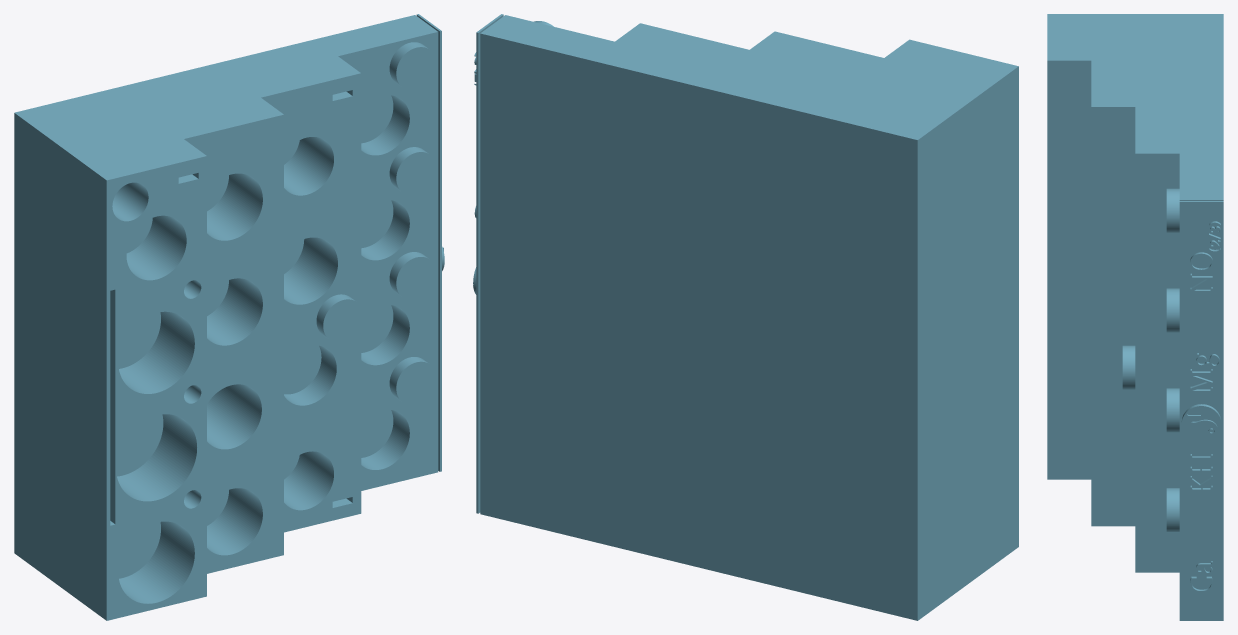
The model's file is redsea-tests-organizer.glb.
The picture shows the model from 3 angles, left to right: view 1: azimuth 30°, elevation 25°; view 2: azimuth 150°, elevation 25°; view 3: azimuth 270°, elevation 25°; orthographic projection. The views are drawn at different scales.
Parts seen in each view (by area): view 1: 83d2dbae-redsea_tests_full.stl; view 2: 83d2dbae-redsea_tests_full.stl; view 3: 83d2dbae-redsea_tests_full.stl.
Part boxes in pixels (x1=…): 83d2dbae-redsea_tests_full.stl: x1=14, y1=14, x2=444, y2=620; 83d2dbae-redsea_tests_full.stl: x1=473, y1=14, x2=1018, y2=620; 83d2dbae-redsea_tests_full.stl: x1=1047, y1=14, x2=1223, y2=620.
Size of the model in its own units: 0.2048 by 0.21 by 0.08.
